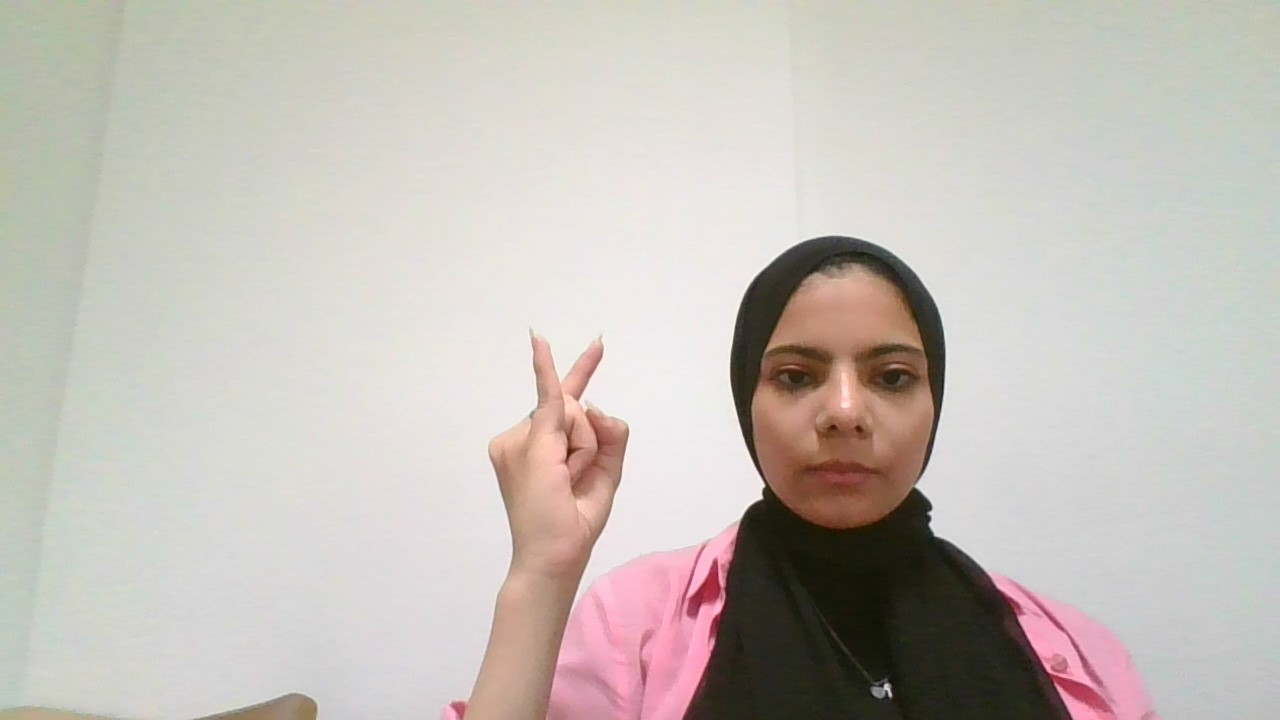love: (483, 308, 643, 627)
